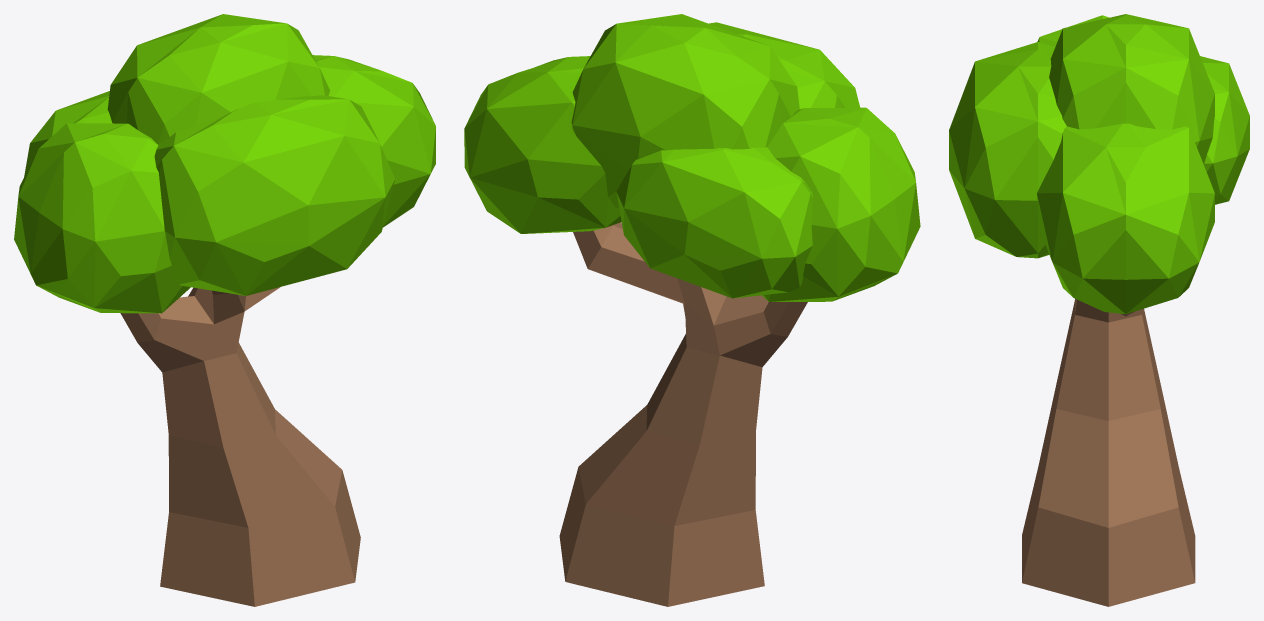
Rendered from bigg_tree.fbx.
The picture shows the model from 3 angles, left to right: view 1: azimuth 30°, elevation 25°; view 2: azimuth 150°, elevation 25°; view 3: azimuth 270°, elevation 25°; orthographic projection. The views are drawn at different scales.
Parts seen in each view (by area): view 1: tree8, pCylinder6; view 2: tree8, pCylinder6; view 3: tree8, pCylinder6.
Boxes of the visible parts, x1,y1,x2,y2 form: tree8: [14, 14, 435, 313]; pCylinder6: [120, 287, 360, 606]; tree8: [464, 14, 920, 301]; pCylinder6: [559, 222, 807, 606]; tree8: [949, 14, 1249, 314]; pCylinder6: [1022, 299, 1195, 606].
Bounding box in the file's own units: 5.59 × 7.06 × 3.73.
